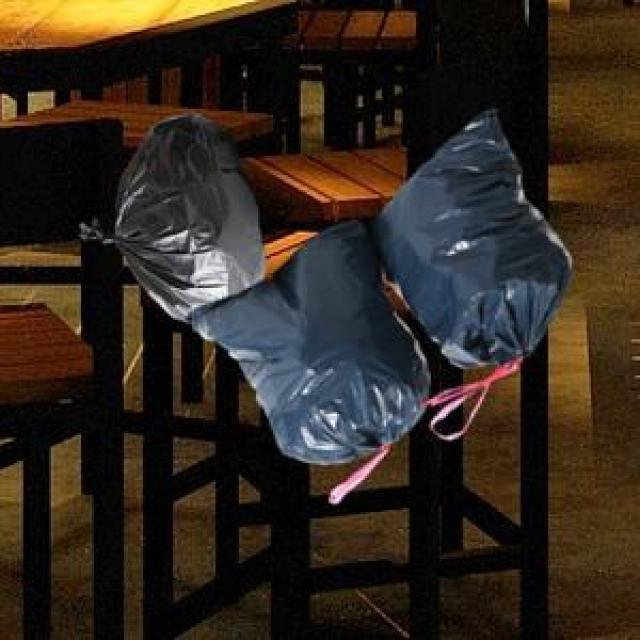waste: (115, 110, 570, 463)
